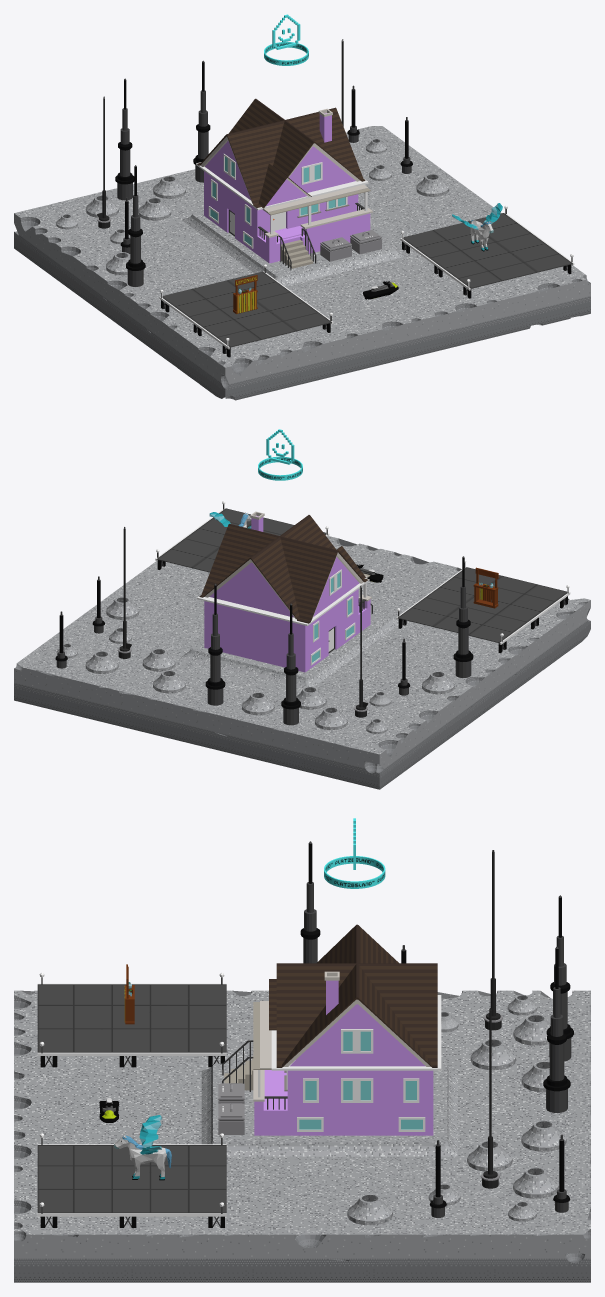
The picture shows the model from 3 angles, top to bottom: view 1: azimuth 30°, elevation 25°; view 2: azimuth 150°, elevation 25°; view 3: azimuth 270°, elevation 25°; orthographic projection. The views are drawn at different scales.
Visible parts, largest first — view 1: Cube.027, Cube.391, Cube.026, Cube.025, Cube.028, Cylinder.021, Cylinder.020, Cylinder.017, TYPE_PREMIUM, ANIMAL_PEGASO, OBJRANDOM_LEMONADE_STAND, Cube.029 (+4 smaller); view 2: Cube.027, Cube.391, Cube.025, Cube.028, Cube.026, Cylinder.017, Cylinder.021, Cylinder.020, TYPE_PREMIUM, OBJRANDOM_LEMONADE_STAND, Cylinder.030, Cylinder.029 (+7 smaller); view 3: Cube.027, Cube.391, Cube.025, Cube.026, Cube.028, Cylinder.017, ANIMAL_PEGASO, Cylinder.020, Cylinder.021, TYPE_PREMIUM, Cylinder.033, Cylinder.031 (+10 smaller).
Part boxes in pixels (box(x1,y1,x2,y2)): Cube.027: box(14, 126, 590, 400); Cube.391: box(196, 98, 372, 269); Cube.026: box(400, 205, 574, 298); Cube.025: box(159, 264, 333, 357); Cube.028: box(182, 211, 403, 286); Cylinder.021: box(126, 165, 145, 286); Cylinder.020: box(115, 78, 134, 200); Cylinder.017: box(193, 60, 210, 182); TYPE_PREMIUM: box(264, 14, 308, 65); ANIMAL_PEGASO: box(452, 203, 502, 251); OBJRANDOM_LEMONADE_STAND: box(233, 275, 257, 313); Cube.029: box(320, 237, 351, 261); Cube.027: box(14, 536, 590, 789); Cube.391: box(197, 511, 372, 672); Cube.025: box(396, 560, 570, 653); Cube.028: box(181, 610, 398, 688); Cube.026: box(155, 501, 329, 572); Cylinder.017: box(205, 583, 225, 705); Cylinder.021: box(453, 556, 473, 677); Cylinder.020: box(281, 603, 300, 725); TYPE_PREMIUM: box(258, 429, 302, 480); OBJRANDOM_LEMONADE_STAND: box(473, 567, 498, 608); Cylinder.030: box(142, 648, 175, 671); Cylinder.029: box(153, 670, 185, 693); Cube.027: box(14, 990, 590, 1282); Cube.391: box(222, 924, 441, 1135); Cube.025: box(37, 973, 226, 1067); Cube.026: box(37, 1133, 226, 1227); Cube.028: box(201, 1063, 457, 1156); Cylinder.017: box(543, 946, 570, 1112); ANIMAL_PEGASO: box(114, 1115, 171, 1180); Cylinder.020: box(546, 895, 573, 1061); Cylinder.021: box(300, 841, 320, 963); TYPE_PREMIUM: box(324, 818, 385, 888); Cylinder.033: box(347, 1194, 392, 1225); Cylinder.031: box(513, 1167, 558, 1198).
Bounding box in the file's own units: 4000 × 2654 × 4000.
Materials: 38 (6 with a texture image).
